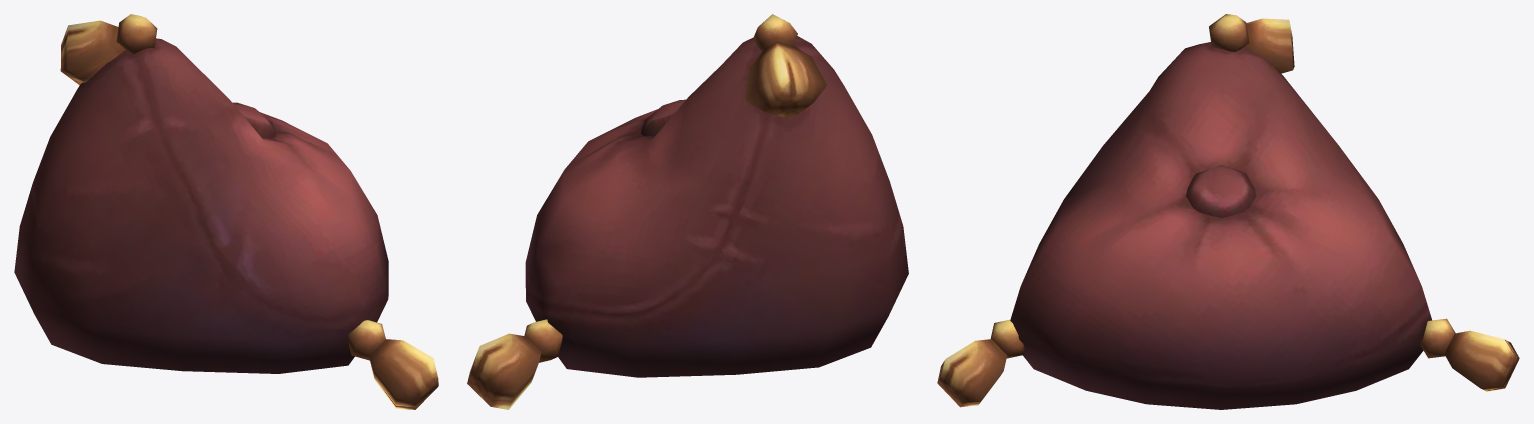
The picture shows the model from 3 angles, left to right: view 1: azimuth 30°, elevation 25°; view 2: azimuth 150°, elevation 25°; view 3: azimuth 270°, elevation 25°; orthographic projection. The views are drawn at different scales.
Size of the model in its own units: 1.09 by 1.05 by 1.7.
Materials: 1 (1 with a texture image).
